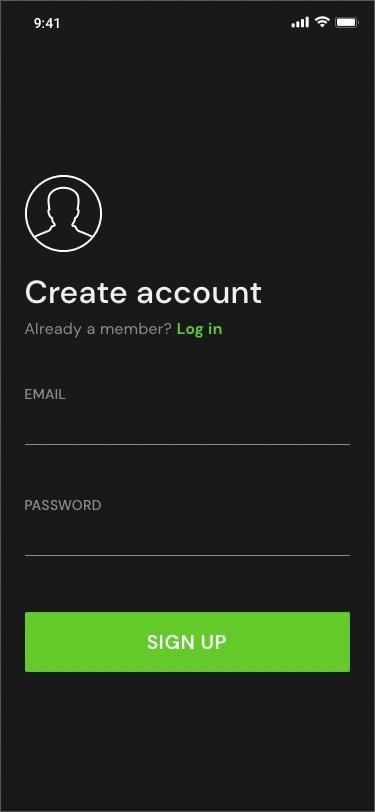button: (25, 613, 354, 676)
label: (24, 494, 111, 519), (20, 385, 75, 406)
